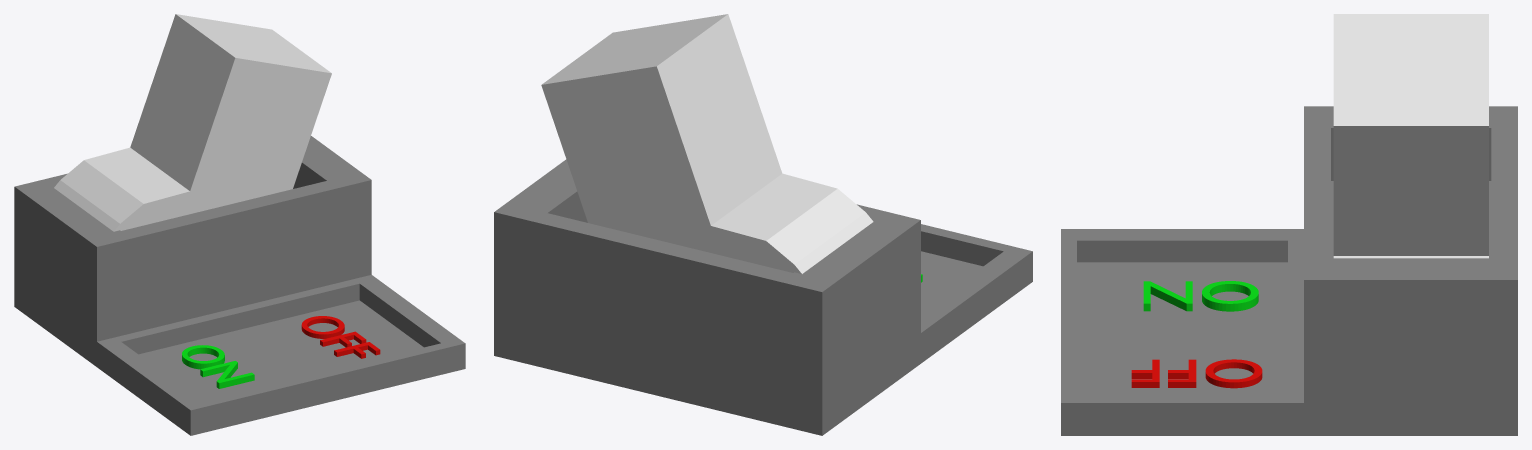
Rendered from light switch.fbx.
3 views of the same model, side by side, from view 1: azimuth 30°, elevation 25°; view 2: azimuth 150°, elevation 25°; view 3: azimuth 270°, elevation 25° (orthographic). The views are drawn at different scales.
Visible parts, largest first — view 1: Text.001, Cube.001; view 2: Text.001, Cube.001; view 3: Text.001, Cube.001.
Boxes of the visible parts, left/top/right/bottom form: Text.001: left=14, top=136, right=465, bottom=435; Cube.001: left=54, top=14, right=331, bottom=231; Text.001: left=494, top=159, right=1032, bottom=435; Cube.001: left=541, top=14, right=873, bottom=273; Text.001: left=1061, top=106, right=1517, bottom=435; Cube.001: left=1333, top=14, right=1488, bottom=258.
Size of the model in its own units: 530 by 488 by 589.
